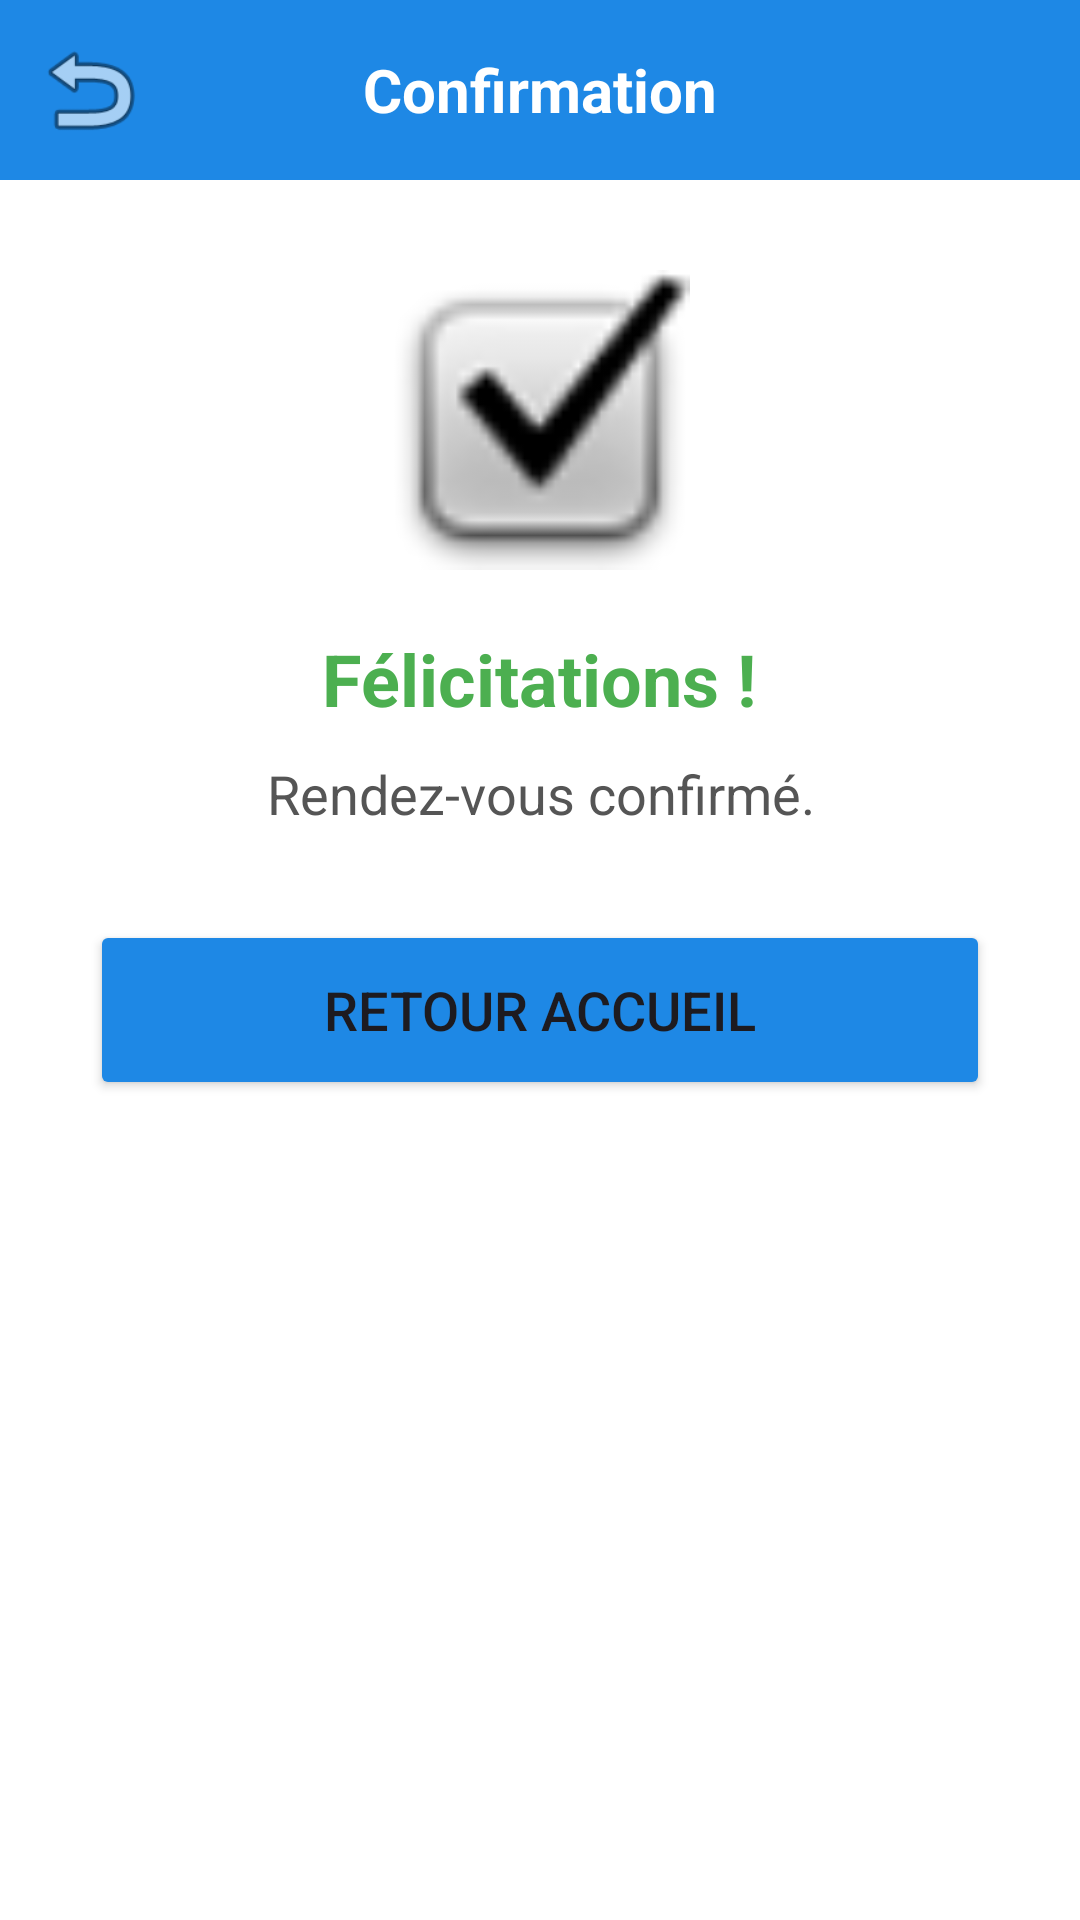

Screen size 1080x1920. Icon name, then its box in pixels as (x1, y1, x2, y2):
revert: (48, 52, 135, 130)
